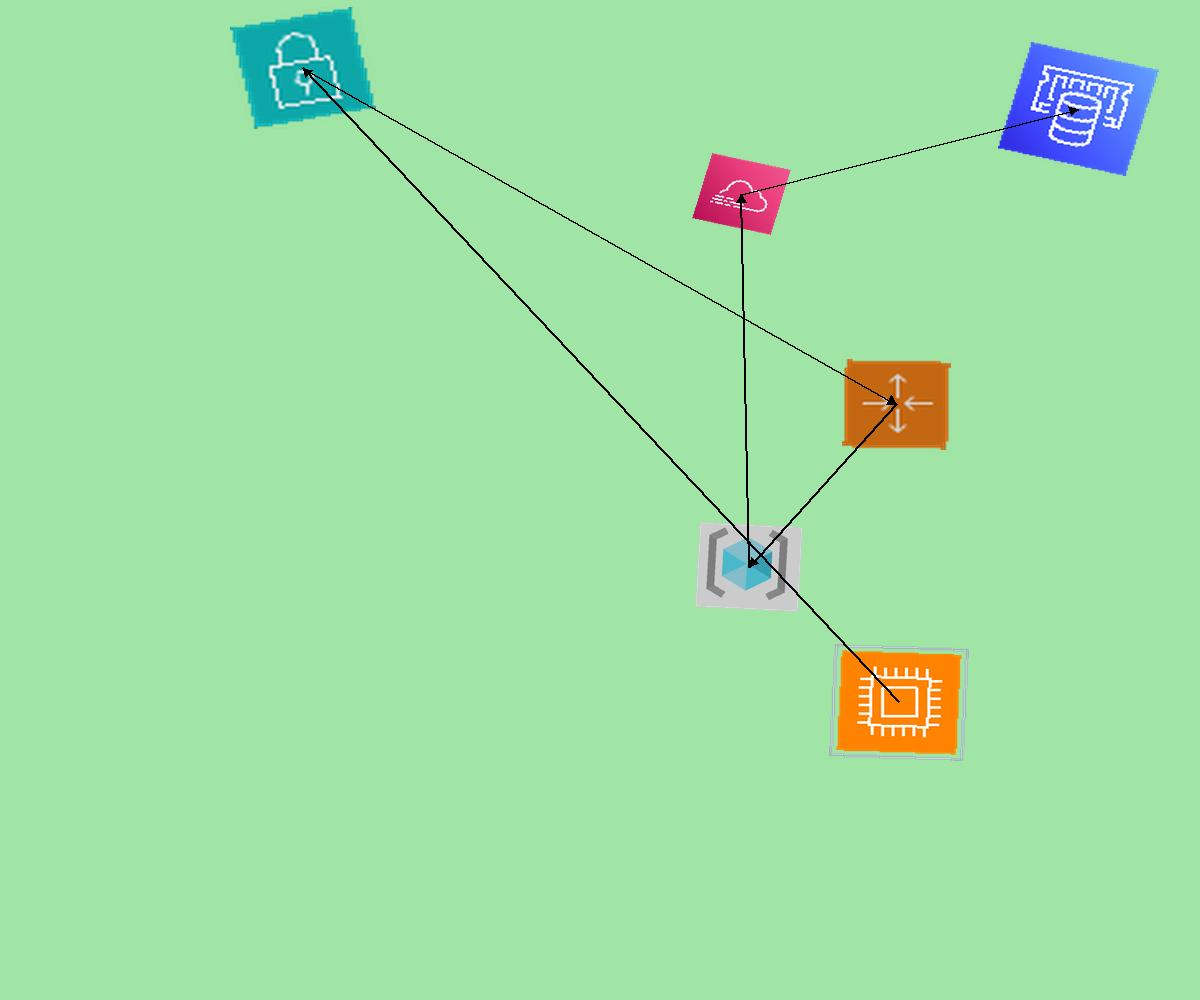AWS-Category_Compute: (829, 644, 969, 761)
AWS-CloudTrail: (692, 153, 791, 235)
AWS-ElastiCache: (998, 42, 1159, 176)
AWS-Private-subnet: (230, 7, 376, 129)
AWS-Scaling-group: (842, 359, 951, 450)
Azure_resource_group: (695, 522, 803, 612)
